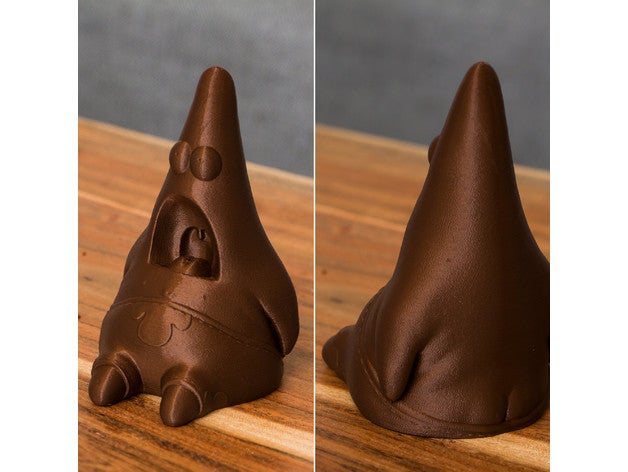Good: (84, 40, 557, 455)
